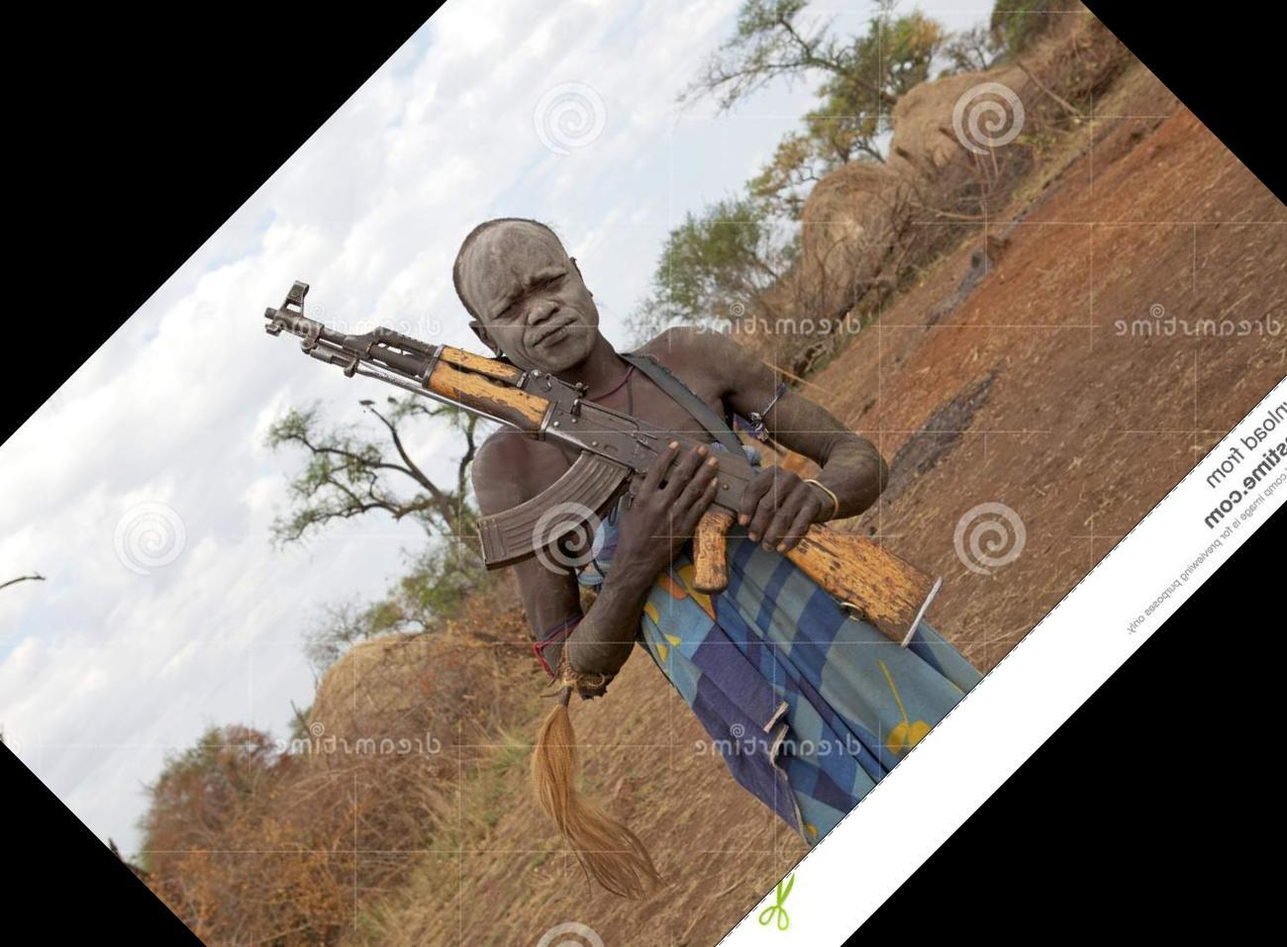larga: (261, 281, 942, 649)
